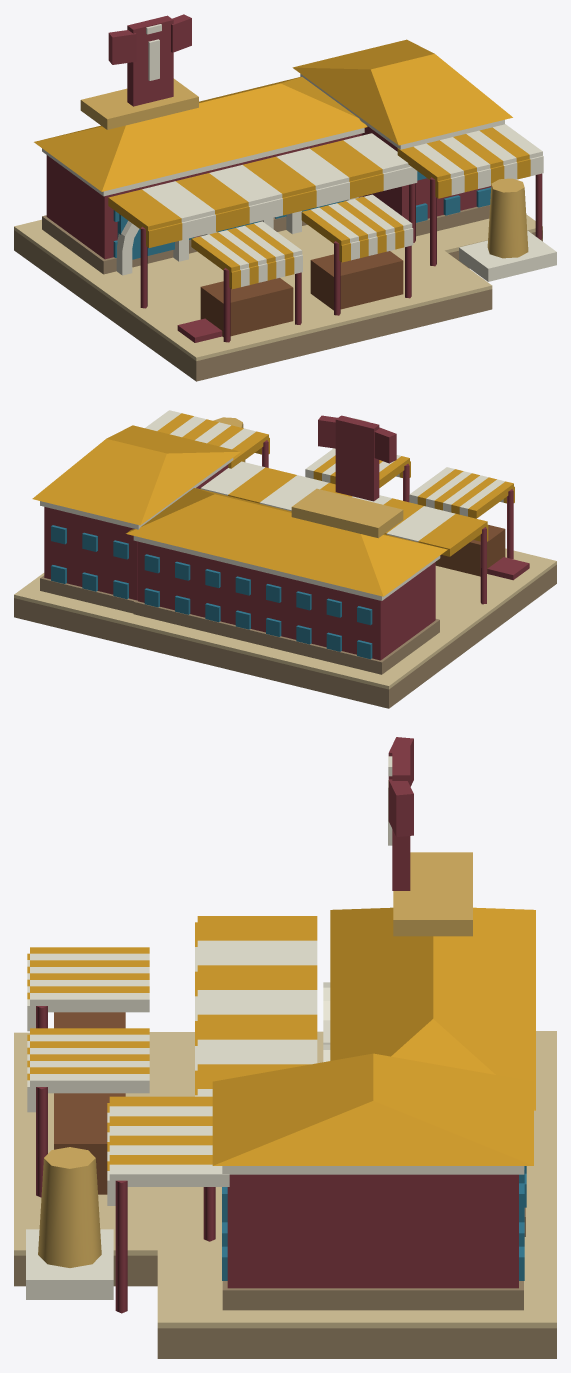
The model's file is club-shop-lv2.glb.
3 renders of one model, top to bottom at view 1: azimuth 30°, elevation 25°; view 2: azimuth 150°, elevation 25°; view 3: azimuth 270°, elevation 25°, orthographic. The views are drawn at different scales.
Parts seen in each view (by area): view 1: foundation_sand, market_row_roof_ochre, awnings_ochre, retail_corner_roof_ochre, awnings_white, foundation_stoneDark, market_stalls_wood, awning_valance_ochre, market_row_burgundy, awning_valance_white, jersey_sign_burgundy, awning_posts_burgundy (+13 smaller); view 2: market_row_roof_ochre, market_row_burgundy, foundation_sand, retail_corner_roof_ochre, foundation_stoneDark, awnings_ochre, awnings_white, retail_corner_burgundy, jersey_sign_burgundy, market_row_stoneDark, market_row_windows_glass, sign_plinth_gold (+7 smaller); view 3: retail_corner_burgundy, foundation_sand, retail_corner_roof_ochre, market_row_roof_ochre, awnings_white, awnings_ochre, foundation_stoneDark, retail_corner_stoneDark, club_trophy_gold, sign_plinth_gold, market_stalls_wood, display_plinth_white (+5 smaller).
Part boxes in pixels (x1,y1,x2,y2): foundation_sand: [14, 214, 542, 360]; market_row_roof_ochre: [34, 77, 367, 191]; awnings_ochre: [108, 127, 529, 275]; retail_corner_roof_ochre: [292, 39, 512, 145]; awnings_white: [142, 124, 542, 269]; foundation_stoneDark: [14, 230, 542, 381]; market_stalls_wood: [200, 251, 403, 336]; awning_valance_ochre: [146, 159, 530, 289]; market_row_burgundy: [46, 133, 361, 259]; awning_valance_white: [182, 155, 543, 286]; jersey_sign_burgundy: [108, 14, 191, 106]; awning_posts_burgundy: [140, 173, 542, 342]; market_row_roof_ochre: [126, 488, 447, 596]; market_row_burgundy: [138, 541, 435, 660]; foundation_sand: [14, 548, 556, 689]; retail_corner_roof_ochre: [32, 425, 240, 525]; foundation_stoneDark: [14, 564, 556, 708]; awnings_ochre: [157, 413, 513, 556]; awnings_white: [145, 410, 505, 541]; retail_corner_burgundy: [44, 464, 228, 600]; jersey_sign_burgundy: [318, 415, 396, 501]; market_row_stoneDark: [133, 600, 439, 674]; market_row_windows_glass: [144, 554, 372, 659]; sign_plinth_gold: [291, 488, 403, 538]; retail_corner_burgundy: [227, 1174, 518, 1288]; foundation_sand: [14, 1031, 556, 1328]; retail_corner_roof_ochre: [212, 1053, 533, 1165]; market_row_roof_ochre: [330, 907, 535, 1110]; awnings_white: [30, 940, 317, 1186]; awnings_ochre: [30, 916, 317, 1164]; foundation_stoneDark: [14, 1255, 556, 1358]; retail_corner_stoneDark: [222, 1281, 523, 1310]; club_trophy_gold: [38, 1147, 101, 1267]; sign_plinth_gold: [393, 852, 472, 936]; market_stalls_wood: [54, 1012, 125, 1194]; display_plinth_white: [26, 1229, 113, 1299].
Size of the model in its own units: 1 by 0.5896 by 0.7861.
